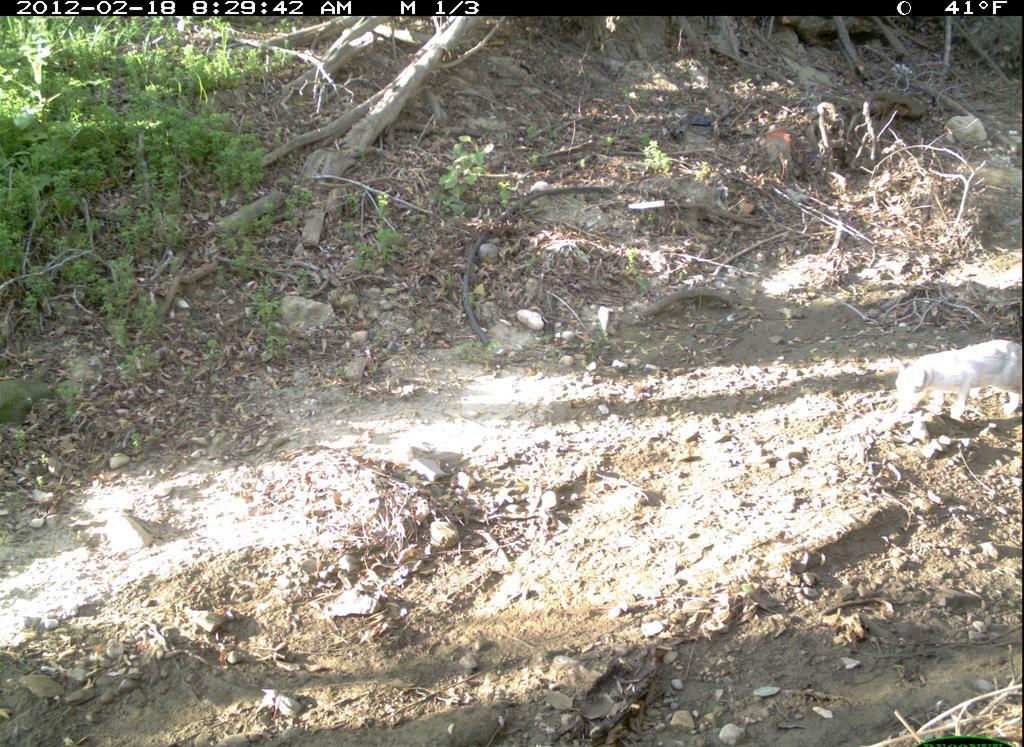cat: (882, 315, 1021, 433)
